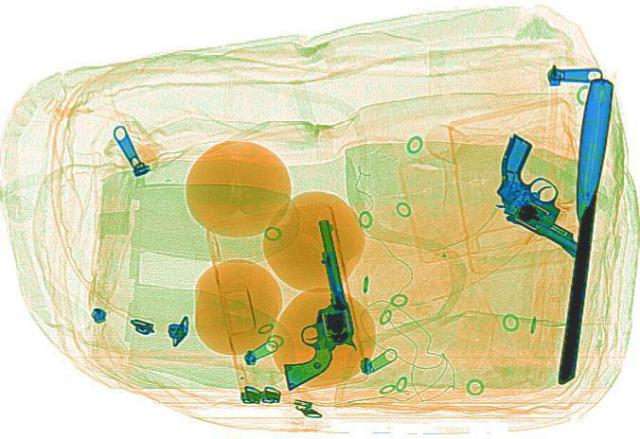Gun: (442, 135, 638, 254), (256, 217, 360, 388)
Knife: (548, 76, 614, 383)
